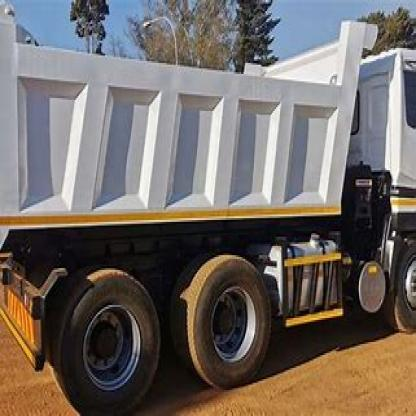dump_truck: (0, 2, 415, 410)
